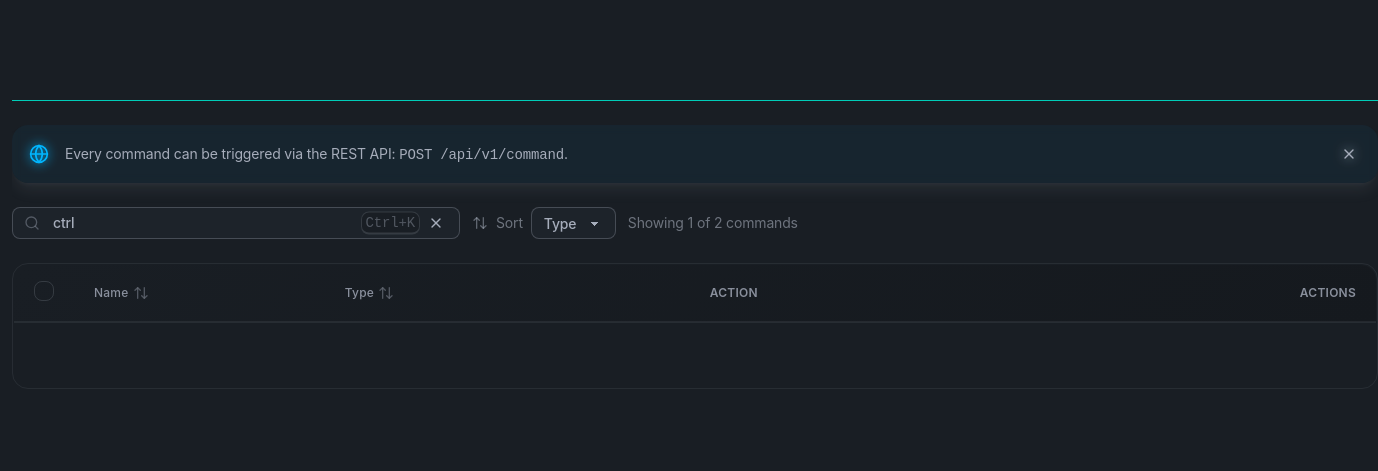
Scenario: clearing the search preserves the active sort params
Note: Clear the search via the X button.
Click the button named "Clear search" at [436, 223], box [424, 211, 448, 235]
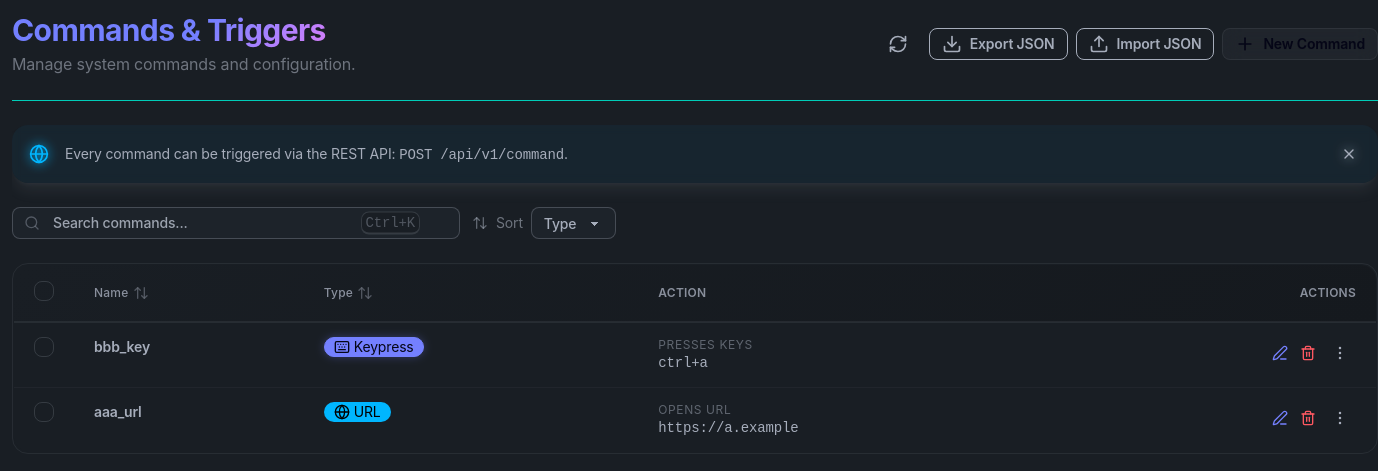
Expected: the field labelled "Search commands" is empty, [12, 207, 460, 239]
